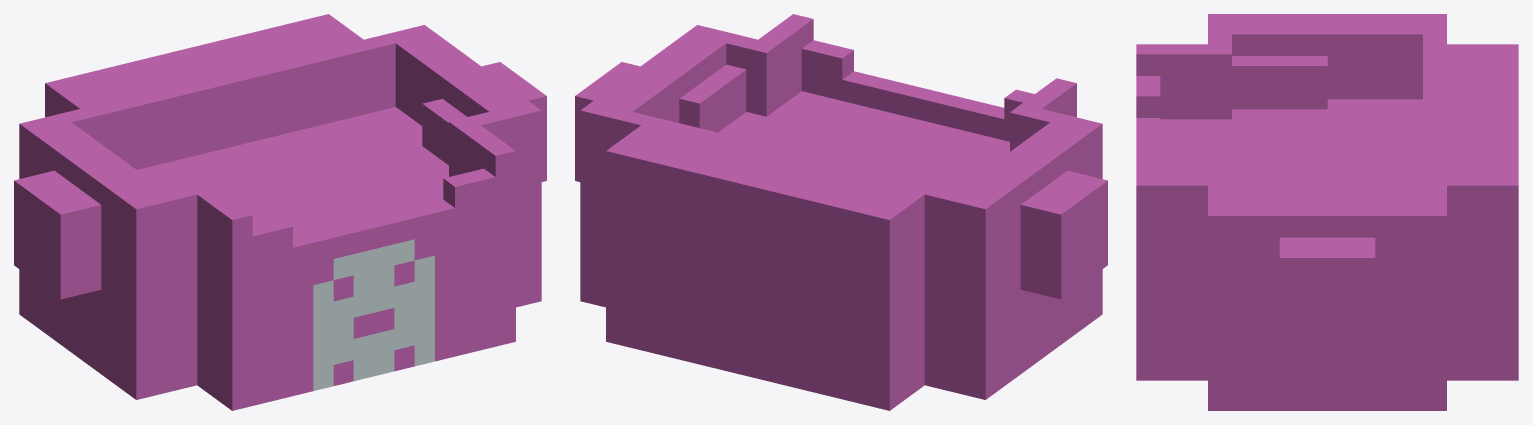
The picture shows the model from 3 angles, left to right: view 1: azimuth 30°, elevation 25°; view 2: azimuth 150°, elevation 25°; view 3: azimuth 270°, elevation 25°; orthographic projection. The views are drawn at different scales.
Parts seen in each view (by area): view 1: 19; view 2: 19; view 3: 19.
Part boxes in pixels (bbox=[...]): 19: bbox=[14, 14, 546, 410]; 19: bbox=[575, 14, 1107, 410]; 19: bbox=[1136, 14, 1518, 410].
Bounding box in the file's own units: 2.4 × 0.9 × 1.6.
Materials: 1 (1 with a texture image).
